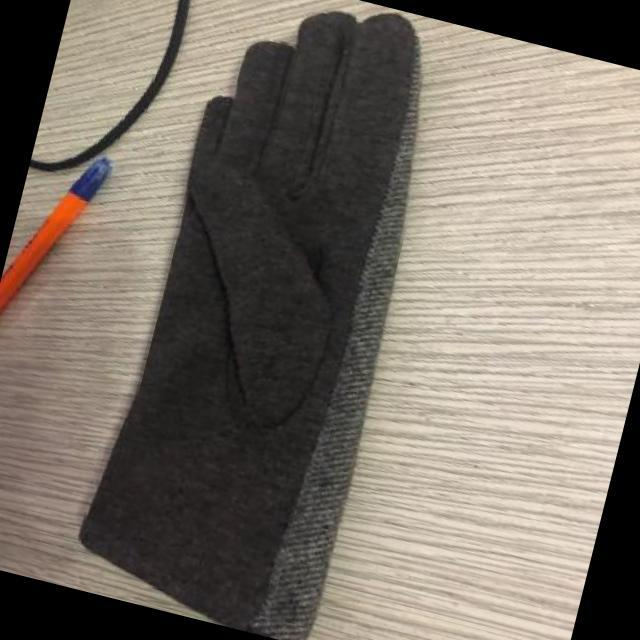glove: (80, 11, 417, 639)
